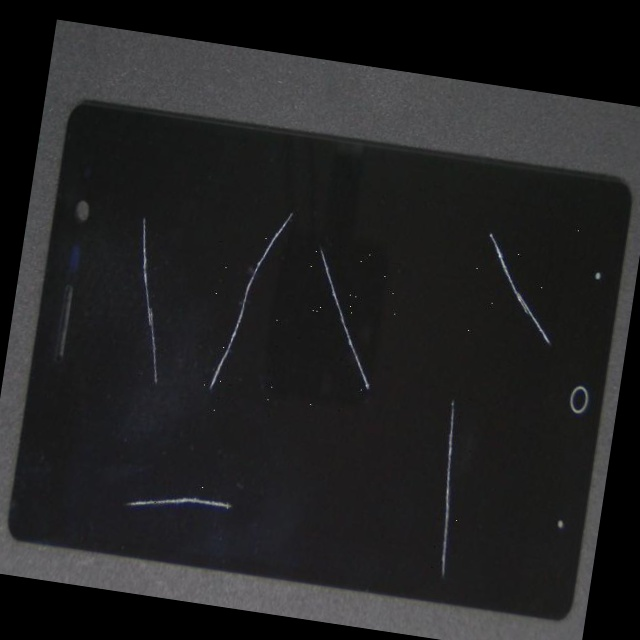scratch: (188, 95, 640, 640), (103, 64, 511, 460), (164, 88, 640, 415), (68, 188, 328, 594), (48, 221, 249, 603), (40, 250, 218, 599)
